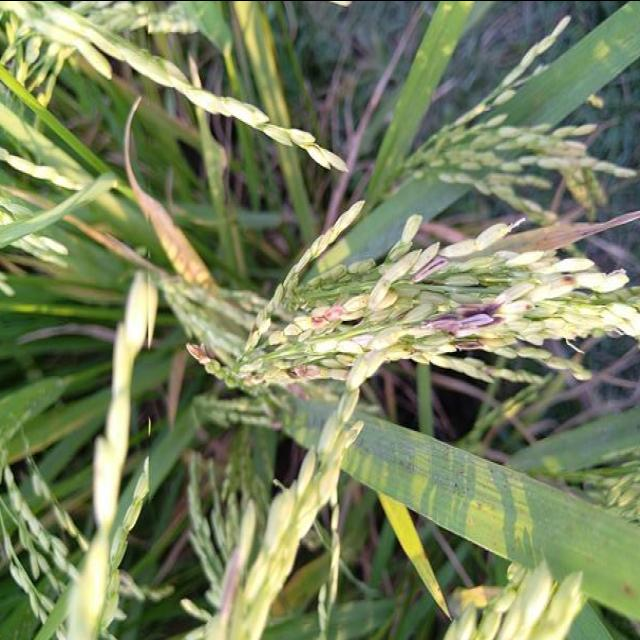Panicle Blight: (212, 499, 256, 627), (403, 295, 505, 350), (296, 293, 370, 328), (402, 241, 460, 282), (262, 385, 307, 429), (537, 275, 580, 299), (187, 341, 223, 367), (286, 364, 324, 378)
